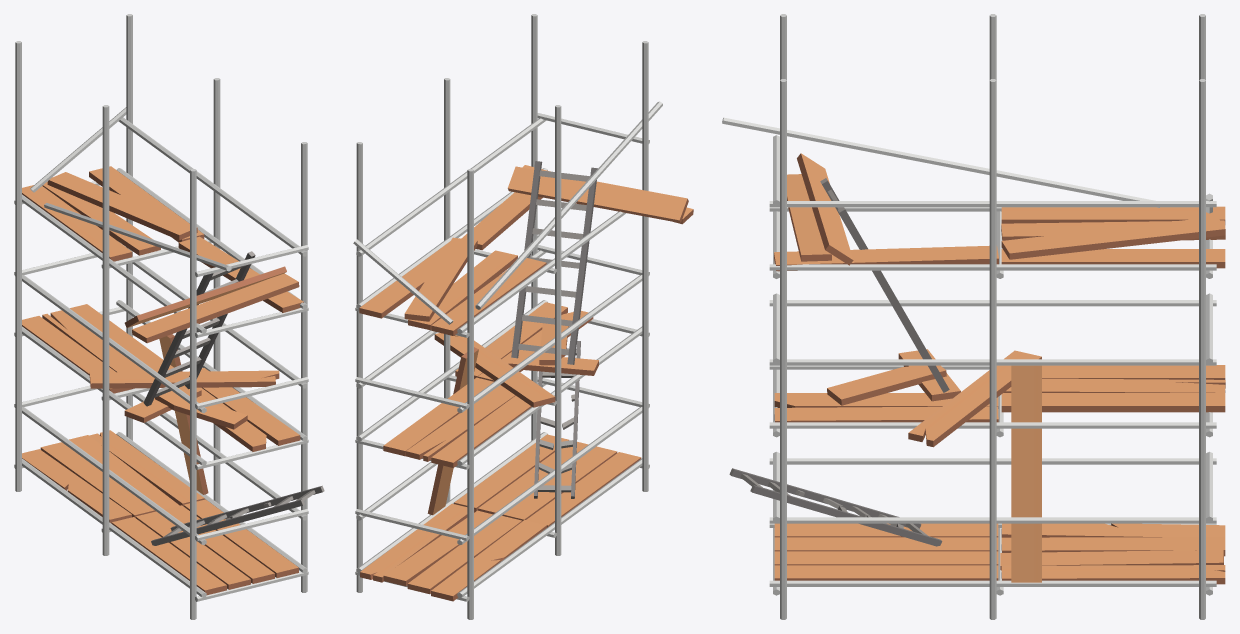
Rendered from lesa.fbx.
3 renders of one model, left to right at view 1: azimuth 30°, elevation 25°; view 2: azimuth 150°, elevation 25°; view 3: azimuth 270°, elevation 25°, orthographic. The views are drawn at different scales.
Parts seen in each view (by area): view 1: Doski, Stolbiki, Stairs, BrokenStairs; view 2: Doski, Stolbiki, Stairs, BrokenStairs; view 3: Doski, Stolbiki, BrokenStairs, Stairs.
Part boxes in pixels (left/top/right/bottom): Doski: left=22, top=166, right=303, bottom=595; Stolbiki: left=14, top=14, right=308, bottom=619; Stairs: left=143, top=251, right=255, bottom=406; BrokenStairs: left=151, top=485, right=324, bottom=545; Doski: left=359, top=165, right=693, bottom=601; Stolbiki: left=353, top=14, right=662, bottom=619; Stairs: left=511, top=161, right=597, bottom=364; BrokenStairs: left=534, top=341, right=580, bottom=498; Doski: left=774, top=153, right=1225, bottom=584; Stolbiki: left=722, top=14, right=1216, bottom=619; BrokenStairs: left=729, top=468, right=942, bottom=546; Stairs: left=820, top=178, right=949, bottom=392.
Bounding box in the file's own units: 396 × 850 × 721.
